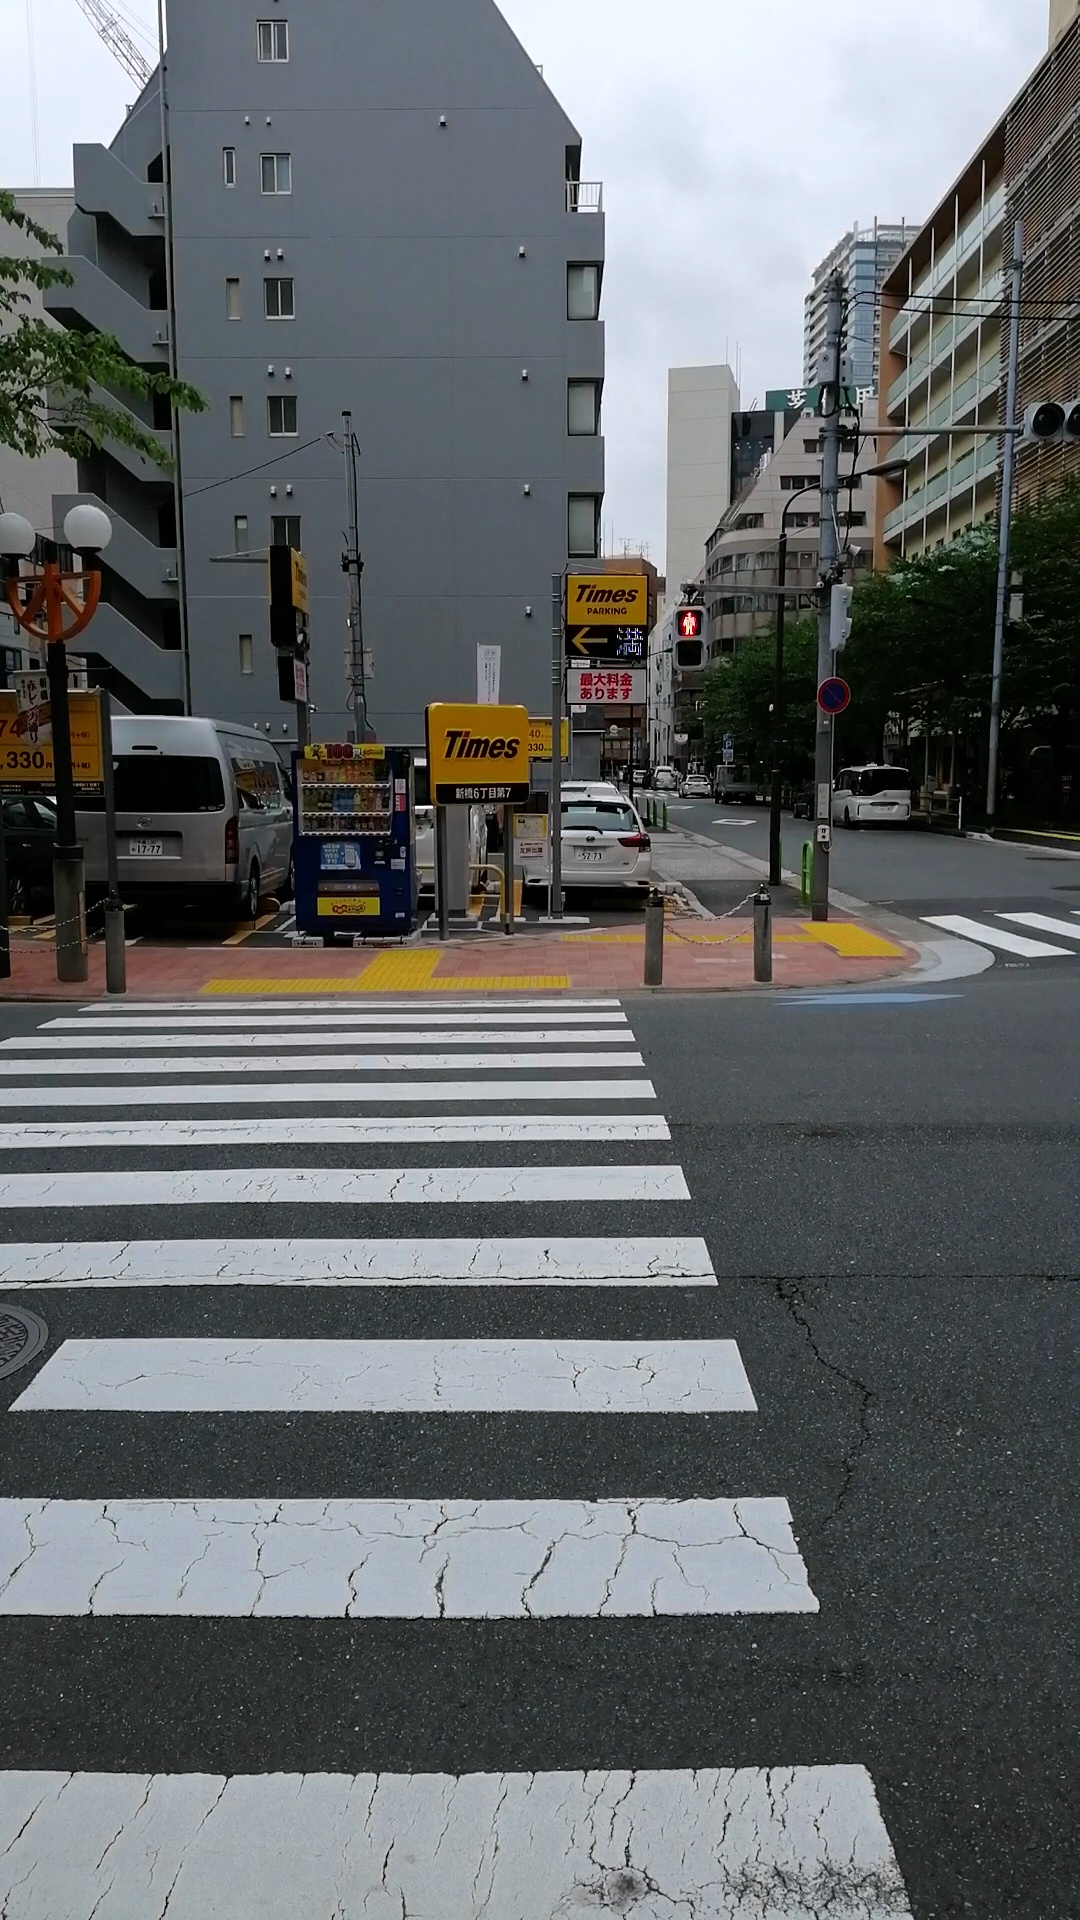red: (673, 603, 705, 670)
